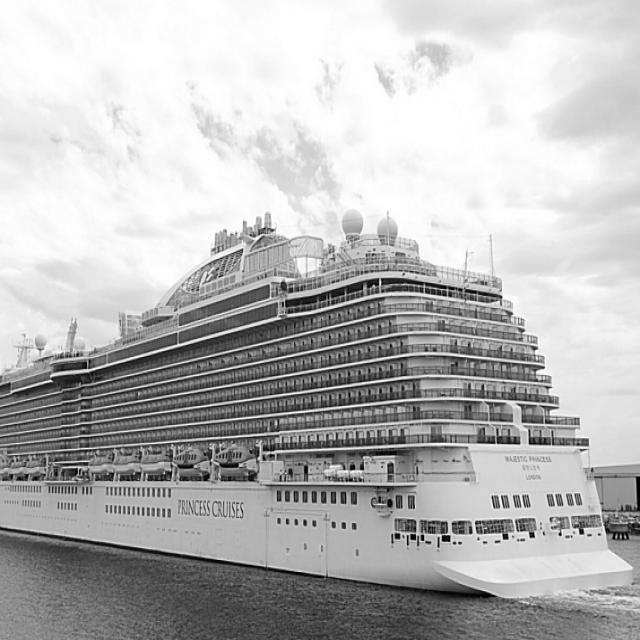cruises: (1, 205, 637, 608)
